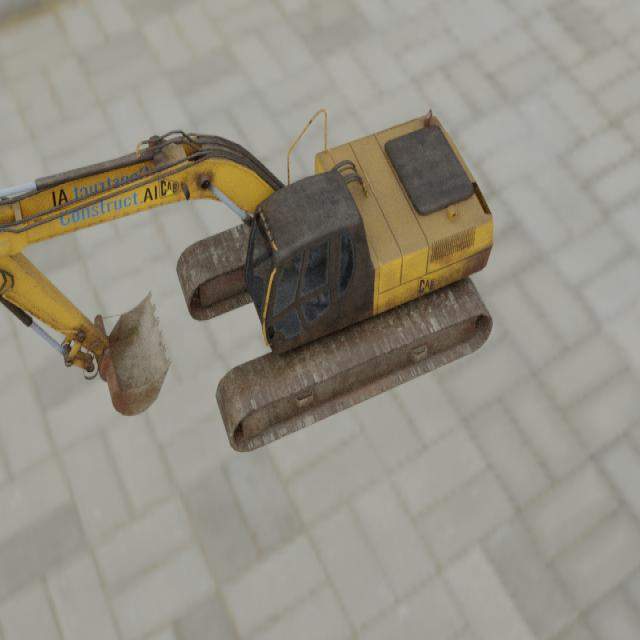excavator: (0, 108, 494, 452)
